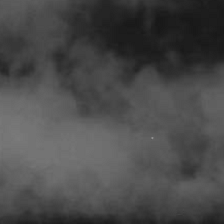Target: (149, 135, 155, 141)
